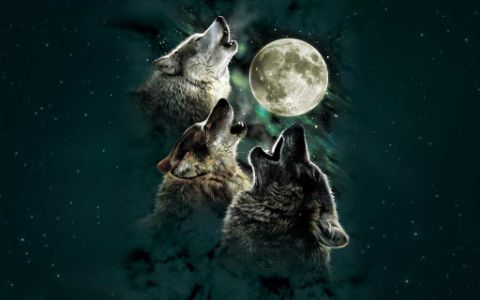wolf: (244, 122, 351, 291), (146, 99, 242, 229), (146, 13, 242, 97)
